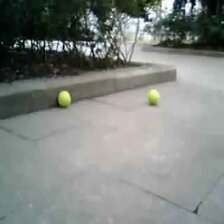tennis: (58, 90, 70, 107), (147, 88, 159, 104)
